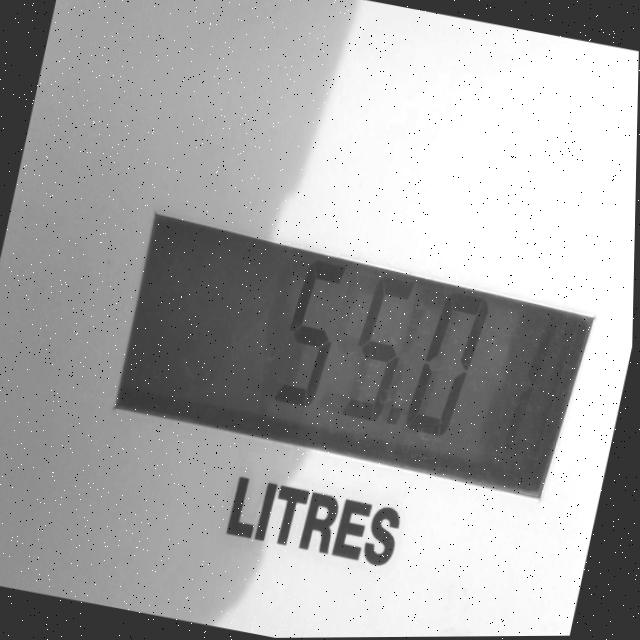.: (386, 401, 405, 434)
0: (408, 290, 487, 449)
1: (506, 317, 552, 458)
5: (274, 254, 351, 414), (346, 273, 420, 428)
